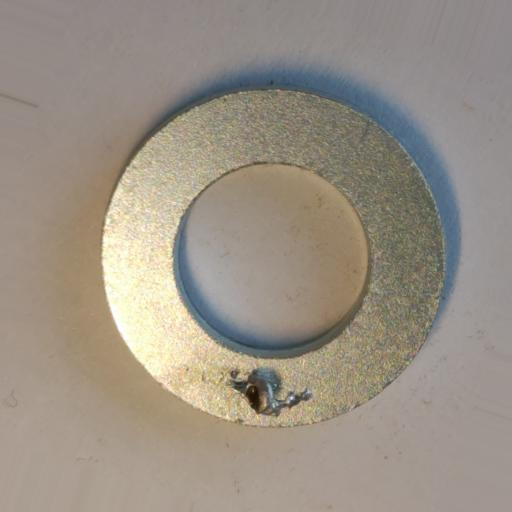excess_material: (227, 364, 314, 416)
